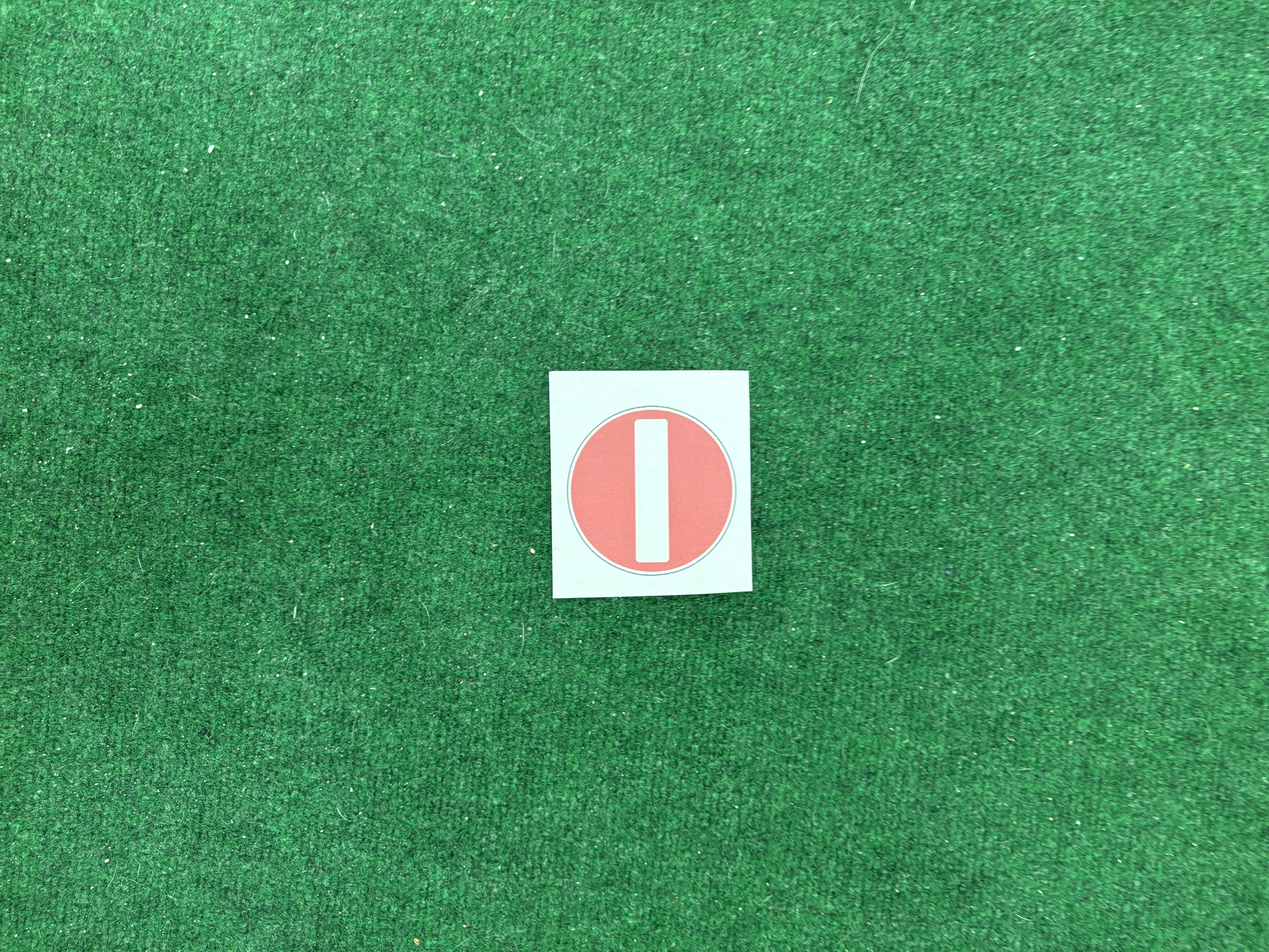No Entry: (547, 373, 752, 589)
